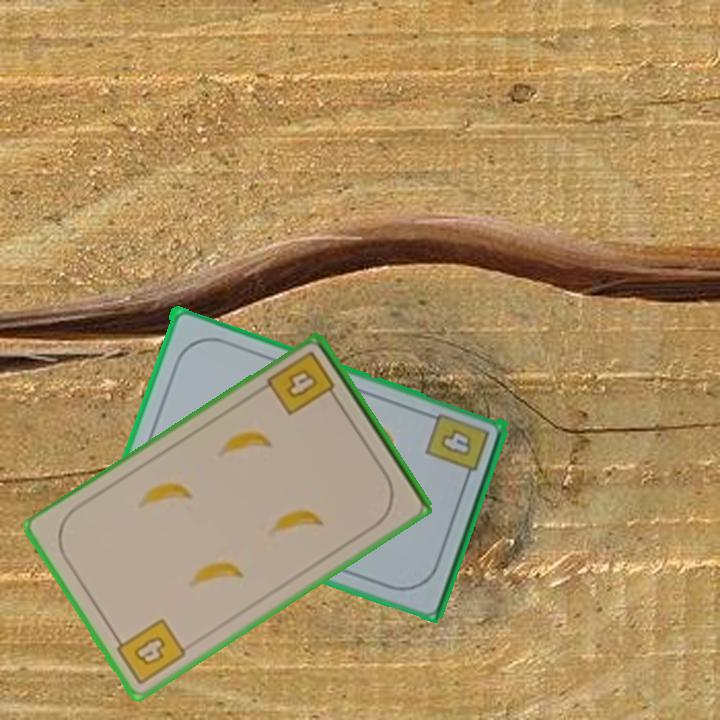4b: (109, 615, 189, 688), (263, 348, 342, 419), (422, 410, 492, 486)
